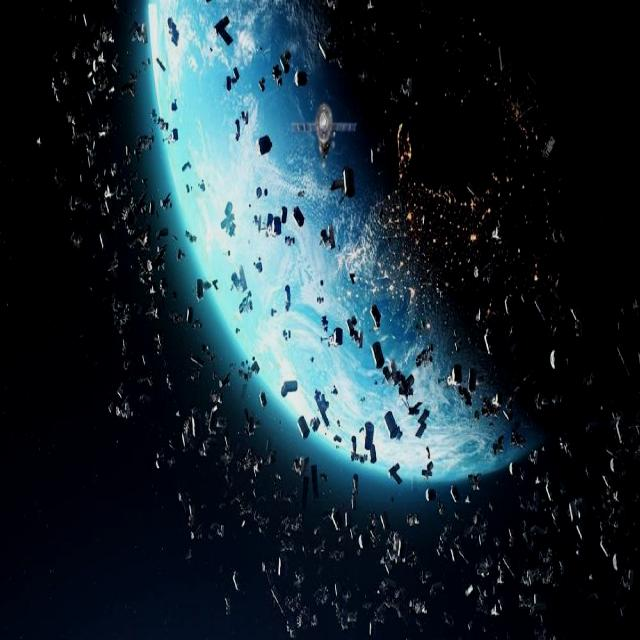large_debris: (372, 579, 410, 626), (380, 534, 417, 576), (284, 594, 317, 639), (86, 53, 114, 105), (237, 449, 276, 481), (504, 375, 531, 421), (383, 361, 413, 400), (262, 565, 283, 615), (139, 247, 166, 285), (318, 30, 344, 68), (121, 195, 145, 235), (334, 592, 357, 631), (463, 511, 487, 547), (181, 409, 201, 451), (65, 113, 93, 143), (107, 384, 130, 419), (330, 168, 355, 199), (112, 294, 129, 335), (520, 594, 547, 618), (204, 406, 226, 435), (254, 215, 281, 237), (115, 173, 137, 199), (314, 391, 329, 428), (384, 412, 403, 441), (213, 17, 232, 46), (132, 136, 153, 162), (346, 316, 362, 350), (220, 202, 235, 237), (609, 504, 628, 531), (364, 423, 376, 465), (613, 409, 627, 445), (438, 366, 462, 387), (482, 393, 502, 418), (120, 70, 138, 97), (474, 262, 496, 284), (436, 527, 451, 559), (618, 344, 632, 377), (195, 280, 217, 301), (230, 496, 252, 517), (520, 491, 540, 514), (281, 515, 301, 538), (570, 498, 588, 523), (454, 538, 470, 566), (351, 437, 367, 465), (243, 411, 260, 437), (99, 185, 113, 216), (230, 267, 246, 293), (128, 22, 147, 43), (323, 510, 341, 532), (416, 346, 434, 368), (67, 195, 90, 212), (320, 225, 335, 251), (620, 298, 640, 317), (321, 329, 342, 347), (198, 436, 216, 457), (416, 411, 429, 440), (571, 303, 582, 337), (371, 343, 385, 369), (511, 425, 526, 449), (166, 17, 178, 47), (521, 569, 541, 587), (611, 458, 628, 479), (476, 556, 493, 577), (273, 490, 298, 504), (550, 350, 568, 369), (521, 522, 533, 550), (253, 511, 269, 532), (469, 371, 484, 393), (292, 458, 309, 477), (314, 586, 329, 607), (560, 434, 573, 458), (278, 50, 291, 74), (238, 292, 252, 314), (82, 10, 96, 32), (280, 381, 297, 399), (255, 136, 271, 155), (503, 556, 516, 579), (622, 570, 635, 593), (226, 68, 239, 91), (106, 251, 117, 278), (388, 465, 402, 486), (97, 117, 111, 138), (297, 417, 309, 441), (138, 227, 150, 251), (370, 305, 381, 331), (543, 136, 556, 158), (458, 388, 472, 408), (85, 141, 95, 169), (52, 168, 65, 189), (98, 24, 113, 42), (203, 345, 218, 363), (603, 470, 614, 494), (535, 300, 547, 322), (351, 475, 358, 512), (479, 587, 488, 615), (293, 568, 305, 589), (292, 207, 304, 228), (145, 302, 159, 320), (68, 232, 81, 251), (551, 506, 560, 533), (410, 601, 427, 615), (535, 393, 549, 410), (127, 232, 141, 249), (153, 332, 162, 358), (401, 77, 412, 98), (601, 535, 611, 558), (493, 438, 505, 457), (163, 129, 177, 145), (539, 549, 553, 565), (468, 474, 481, 491), (491, 600, 504, 617), (159, 194, 172, 211), (272, 65, 282, 87), (301, 479, 308, 510), (421, 463, 433, 481), (278, 555, 287, 579), (313, 540, 325, 558), (577, 521, 587, 542), (430, 583, 444, 598), (110, 54, 120, 75), (370, 529, 380, 549), (50, 77, 58, 102), (492, 220, 502, 240), (71, 38, 80, 60), (546, 474, 553, 502), (407, 403, 422, 416), (295, 72, 308, 87), (218, 373, 230, 389), (136, 375, 152, 387), (380, 513, 390, 532), (543, 568, 554, 585), (248, 358, 259, 375), (329, 551, 344, 563), (168, 311, 183, 323), (59, 69, 70, 85), (484, 330, 491, 355), (158, 279, 167, 298), (312, 466, 317, 500), (280, 540, 294, 552), (420, 571, 432, 585), (238, 371, 252, 383), (552, 393, 563, 408), (309, 418, 320, 433), (497, 565, 505, 585), (529, 450, 539, 466), (123, 145, 131, 165), (407, 514, 419, 527), (285, 286, 291, 312), (534, 628, 547, 640), (190, 355, 203, 367), (584, 373, 595, 387), (531, 527, 548, 536), (451, 487, 460, 504), (224, 470, 232, 489), (357, 69, 367, 84), (185, 371, 200, 381), (509, 528, 516, 549), (444, 613, 453, 629), (156, 118, 168, 130), (184, 232, 196, 244), (156, 228, 168, 240), (98, 231, 106, 249), (210, 392, 222, 404), (165, 374, 173, 392), (232, 572, 239, 592), (325, 0, 339, 10), (188, 504, 194, 527), (83, 50, 92, 65), (253, 258, 262, 273), (224, 437, 230, 459), (93, 174, 101, 190), (498, 46, 503, 71), (589, 590, 600, 601), (180, 161, 190, 173), (141, 58, 151, 70), (601, 497, 609, 512), (321, 317, 328, 334), (186, 308, 193, 325), (349, 527, 358, 540), (369, 514, 378, 527), (620, 606, 628, 620), (417, 617, 424, 633), (109, 162, 116, 178), (111, 0, 119, 14), (612, 553, 618, 571), (465, 586, 474, 598), (155, 59, 164, 71), (120, 340, 126, 358), (281, 207, 287, 224), (284, 237, 294, 247), (427, 490, 436, 501), (176, 250, 185, 261), (282, 331, 291, 342), (166, 457, 175, 468), (241, 111, 248, 125), (258, 78, 265, 92), (147, 201, 154, 215), (252, 489, 260, 501), (197, 180, 205, 192), (184, 551, 191, 564), (345, 512, 350, 530), (260, 393, 266, 408), (225, 598, 230, 616), (438, 503, 444, 517), (216, 527, 223, 539), (170, 100, 177, 112), (189, 529, 196, 541), (122, 360, 129, 371), (139, 396, 150, 403), (51, 52, 58, 63), (330, 385, 337, 396), (349, 274, 355, 286), (255, 187, 261, 199), (192, 321, 201, 329), (465, 496, 472, 506), (494, 537, 501, 547), (358, 536, 363, 550), (600, 522, 607, 532), (236, 120, 239, 142), (455, 342, 461, 353), (509, 463, 514, 476), (476, 309, 481, 322), (150, 110, 155, 123), (320, 474, 327, 483), (148, 285, 155, 294), (451, 549, 455, 564), (474, 412, 480, 422), (368, 0, 374, 10), (141, 179, 147, 189), (426, 448, 431, 460), (422, 322, 430, 329), (560, 562, 564, 575), (335, 585, 339, 598), (506, 298, 509, 315), (521, 472, 526, 482), (468, 622, 473, 632), (536, 478, 543, 485), (334, 437, 341, 444), (298, 191, 305, 198), (415, 325, 422, 332), (369, 622, 372, 638), (186, 185, 191, 194), (271, 309, 276, 318), (35, 137, 40, 146), (317, 298, 324, 304), (275, 474, 281, 481), (371, 149, 374, 163), (92, 43, 98, 50), (223, 251, 230, 257), (358, 427, 364, 434), (455, 512, 460, 520), (490, 502, 494, 512), (339, 537, 344, 545), (171, 235, 177, 241), (141, 355, 144, 366), (576, 549, 580, 557), (229, 364, 235, 369), (264, 190, 268, 197), (178, 494, 181, 503), (589, 576, 593, 582), (483, 628, 487, 634), (427, 324, 431, 330), (155, 462, 158, 470), (337, 420, 340, 428), (310, 358, 314, 363), (320, 281, 323, 287), (391, 498, 394, 504), (454, 331, 457, 337), (79, 174, 81, 183), (175, 412, 178, 418), (236, 329, 239, 335), (74, 16, 76, 25), (361, 399, 365, 403), (197, 527, 200, 532), (242, 363, 245, 368), (245, 360, 248, 365), (258, 47, 262, 50), (375, 382, 378, 386), (205, 0, 211, 2), (156, 455, 158, 460)
medium_debris: (291, 102, 356, 165)
